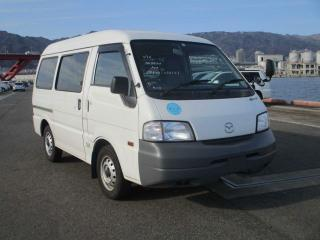Van: (33, 31, 277, 198)
